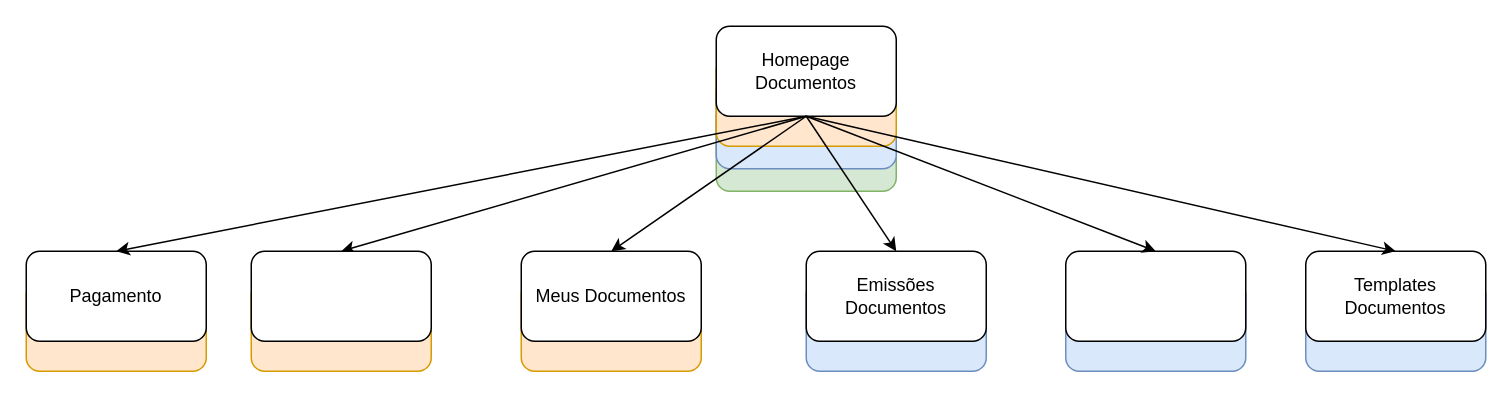
The diagram is 1512 pixels wide and 398 high, and some of its shapes have lost their labels. The box of each missing label's shape, as (x1, y1, x2, y2) in pixels:
Criar Template Documento: (1064, 250, 1246, 341)
Pedir Documento: (250, 250, 431, 341)
